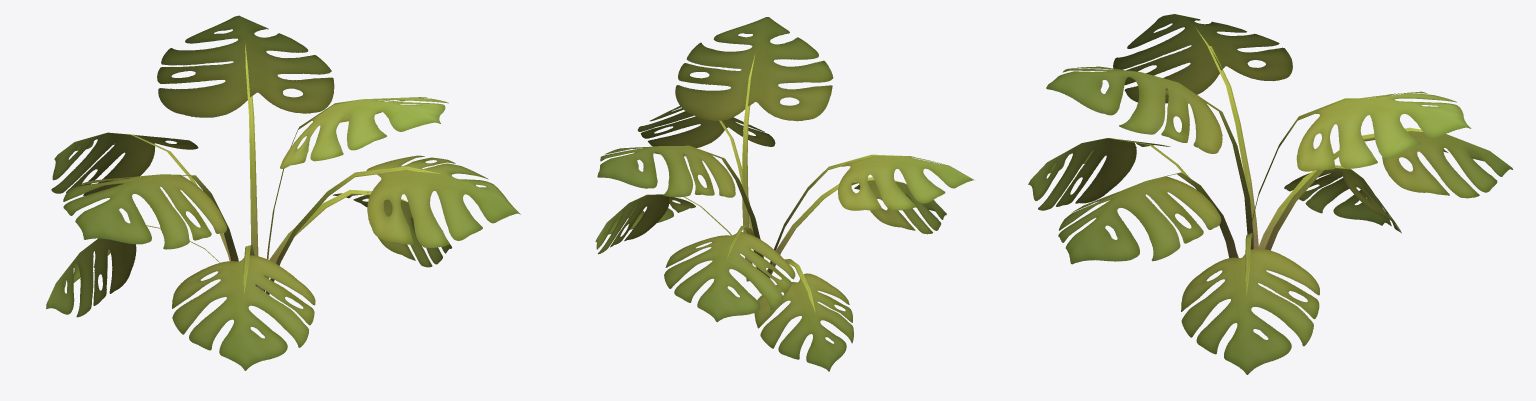
The model's file is monstera 02_lod2.obj.
3 views of the same model, side by side, from view 1: azimuth 30°, elevation 25°; view 2: azimuth 150°, elevation 25°; view 3: azimuth 270°, elevation 25° (orthographic). The views are drawn at different scales.
Visible parts, largest first — view 1: tree; view 2: tree; view 3: tree.
Part boxes in pixels (x1=…): tree: x1=46, y1=15, x2=520, y2=370; tree: x1=595, y1=17, x2=973, y2=371; tree: x1=1028, y1=14, x2=1512, y2=374.
Bounding box in the file's own units: 143 × 80.64 × 130.
